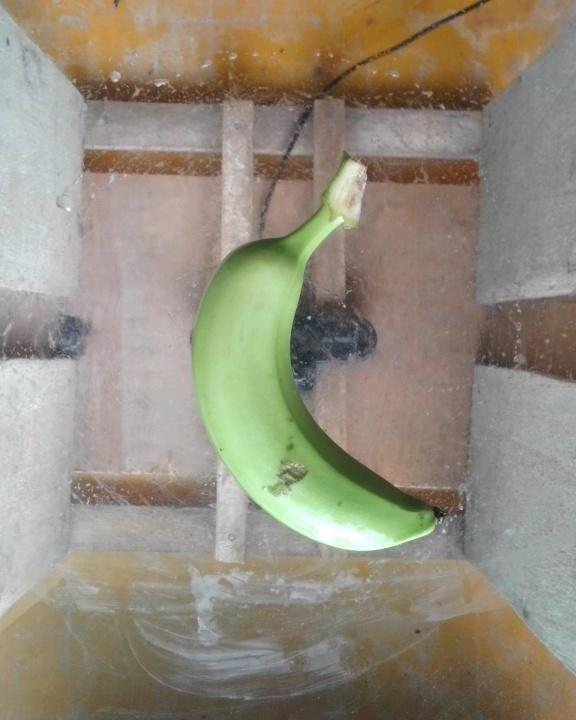CLASS B: (169, 143, 463, 557)
Class A: (262, 438, 316, 501)
